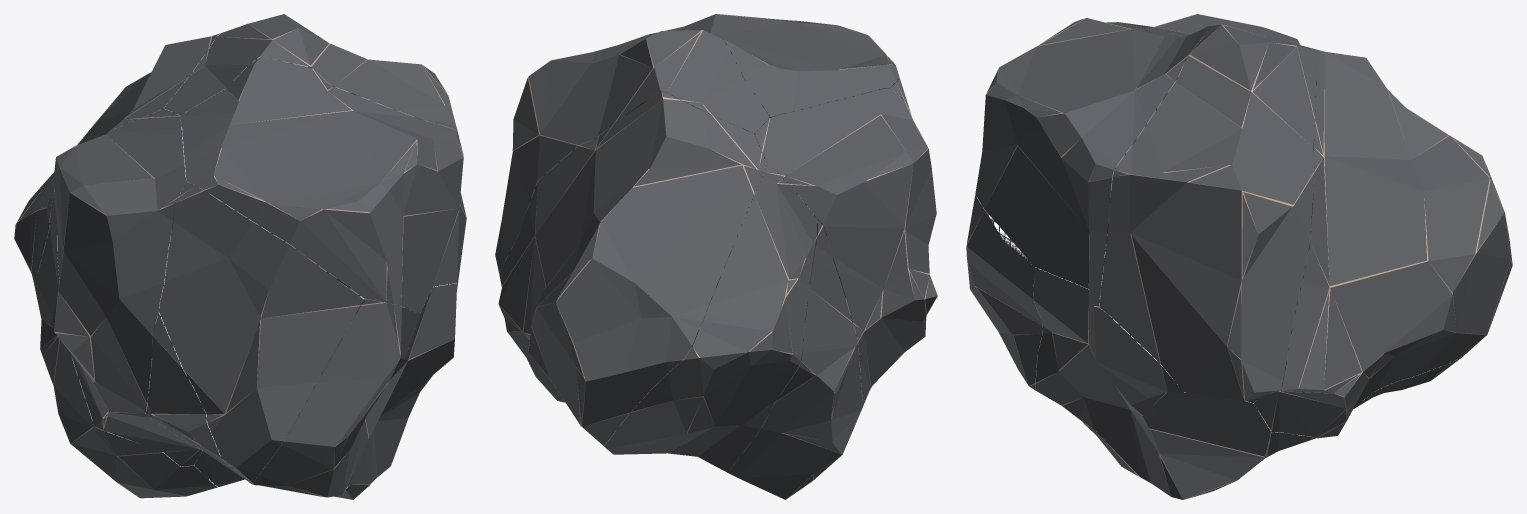
File: batuKecil4_FRAC.fbx
3 views of the same model, side by side, from view 1: azimuth 30°, elevation 25°; view 2: azimuth 150°, elevation 25°; view 3: azimuth 270°, elevation 25° (orthographic). The views are drawn at different scales.
Parts seen in each view (by area): view 1: Cube.057_cell.003, Cube.057_cell.005, Cube.057_cell.009, Cube.057_cell.002, Cube.057_cell.004, Cube.057_cell.001, Cube.057_cell, Cube.057_cell.006, Cube.057_cell.008, Cube.057_cell.007; view 2: Cube.057_cell.008, Cube.057_cell.009, Cube.057_cell.007, Cube.057_cell.004, Cube.057_cell.001, Cube.057_cell.003; view 3: Cube.057_cell.004, Cube.057_cell.008, Cube.057_cell.003, Cube.057_cell, Cube.057_cell.002, Cube.057_cell.009, Cube.057_cell.007.
Part boxes in pixels (box(x1,y1,x2,y2)): Cube.057_cell.003: box(181, 57, 463, 313); Cube.057_cell.005: box(159, 182, 363, 482); Cube.057_cell.009: box(51, 109, 202, 466); Cube.057_cell.002: box(252, 299, 419, 497); Cube.057_cell.004: box(164, 14, 466, 289); Cube.057_cell.001: box(35, 178, 218, 498); Cube.057_cell: box(194, 283, 456, 499); Cube.057_cell.006: box(146, 313, 252, 484); Cube.057_cell.008: box(38, 33, 219, 189); Cube.057_cell.007: box(14, 123, 127, 287); Cube.057_cell.008: box(498, 91, 766, 445); Cube.057_cell.009: box(755, 88, 937, 405); Cube.057_cell.007: box(604, 163, 817, 472); Cube.057_cell.004: box(495, 30, 769, 274); Cube.057_cell.001: box(727, 220, 862, 499); Cube.057_cell.003: box(631, 14, 899, 118); Cube.057_cell.004: box(1099, 24, 1316, 402); Cube.057_cell.008: box(1254, 49, 1512, 438); Cube.057_cell.003: box(975, 18, 1212, 306); Cube.057_cell: box(1033, 267, 1271, 499); Cube.057_cell.002: box(966, 195, 1042, 390); Cube.057_cell.009: box(1120, 14, 1300, 44); Cube.057_cell.007: box(1265, 355, 1464, 458).
Size of the model in its own units: 191 by 192 by 213.
